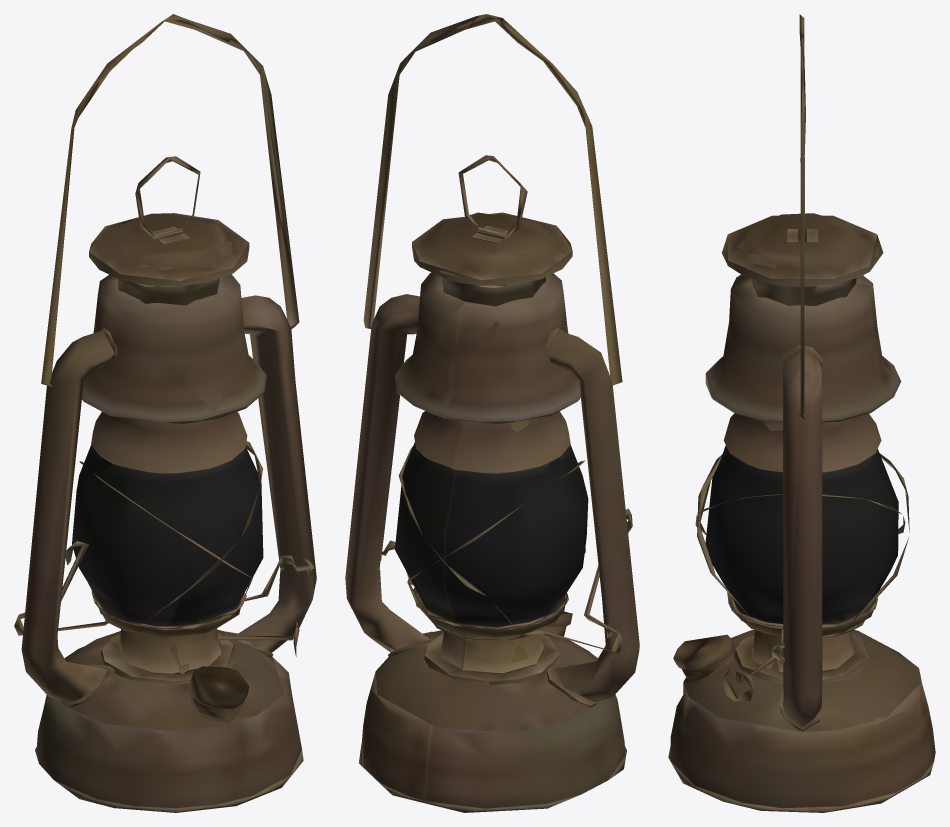
The model's file is design-lantern-01.glb.
3 views of the same model, side by side, from view 1: azimuth 30°, elevation 25°; view 2: azimuth 150°, elevation 25°; view 3: azimuth 270°, elevation 25° (orthographic).
Parts seen in each view (by area): view 1: Lantern_01, Lantern_01_glass; view 2: Lantern_01, Lantern_01_glass; view 3: Lantern_01, Lantern_01_glass.
Boxes of the visible parts, x1,y1,x2,y2 form: Lantern_01: [14, 14, 316, 812]; Lantern_01_glass: [72, 445, 263, 626]; Lantern_01: [345, 14, 639, 812]; Lantern_01_glass: [395, 442, 588, 626]; Lantern_01: [668, 14, 935, 812]; Lantern_01_glass: [705, 445, 898, 623].
Bounding box in the file's own units: 0.1221 × 0.2938 × 0.096.
2 materials, 2 textured.
